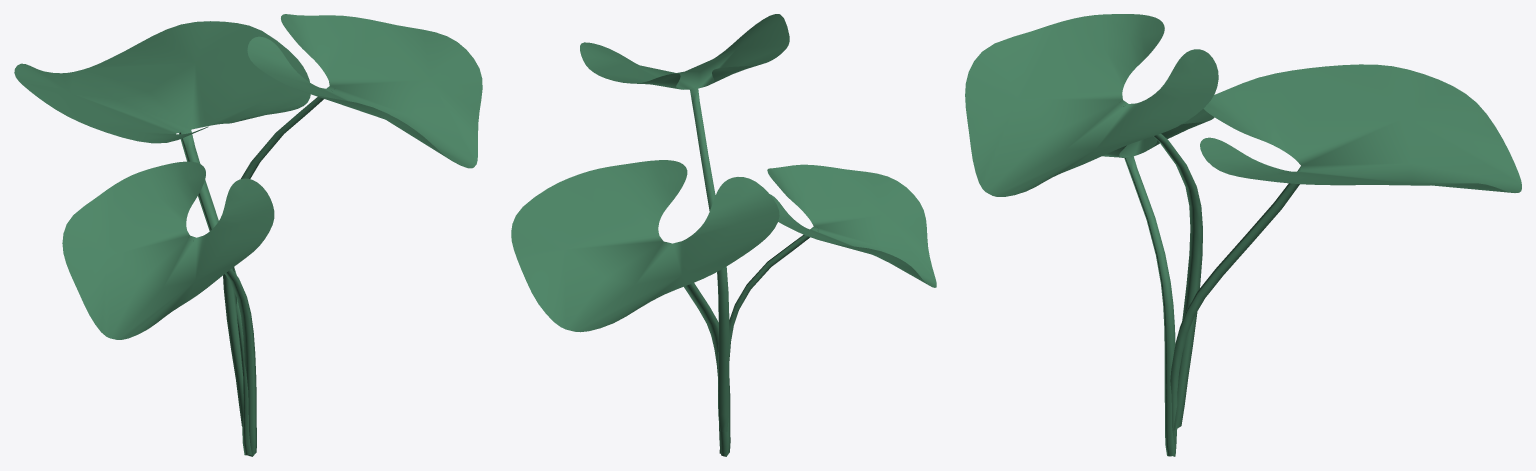
File: Leaf-Bundle-S00A.fbx
The picture shows the model from 3 angles, left to right: view 1: azimuth 30°, elevation 25°; view 2: azimuth 150°, elevation 25°; view 3: azimuth 270°, elevation 25°; orthographic projection. The views are drawn at different scales.
Visible parts, largest first — view 1: Leaf-Bundle-S00A; view 2: Leaf-Bundle-S00A; view 3: Leaf-Bundle-S00A.
Part boxes in pixels (left/top/right/bottom): Leaf-Bundle-S00A: left=14, top=14, right=482, bottom=456; Leaf-Bundle-S00A: left=511, top=14, right=936, bottom=456; Leaf-Bundle-S00A: left=965, top=14, right=1521, bottom=456.
Size of the model in its own units: 91.25 by 96.59 by 112.
